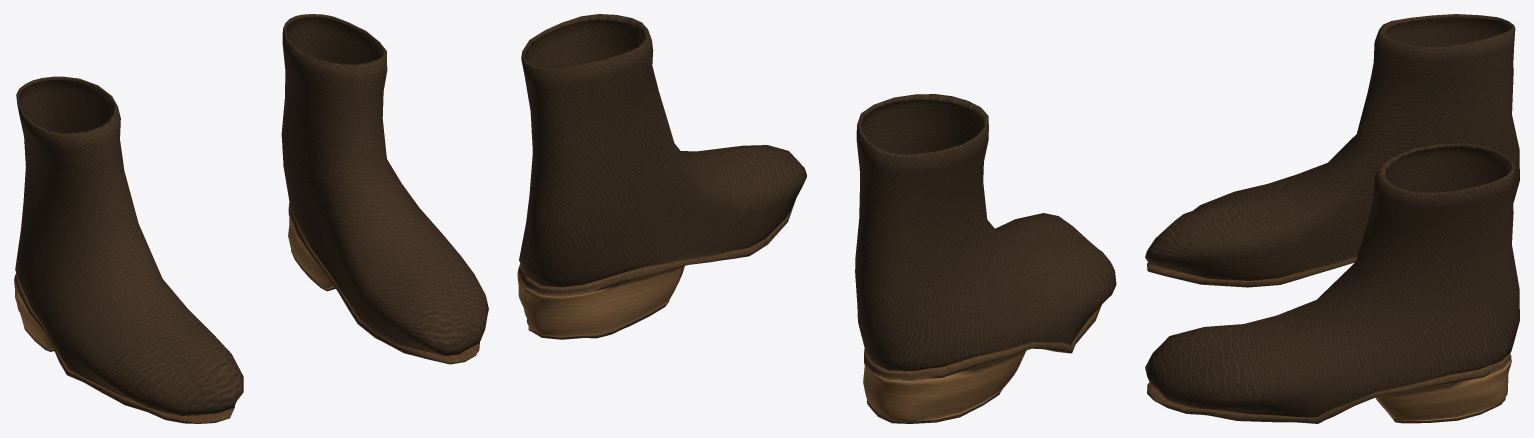
The model's file is shoes_ankle_boots.gltf.
The picture shows the model from 3 angles, left to right: view 1: azimuth 30°, elevation 25°; view 2: azimuth 150°, elevation 25°; view 3: azimuth 270°, elevation 25°; orthographic projection. The views are drawn at different scales.
Visible parts, largest first — view 1: shoes_ankle_boots; view 2: shoes_ankle_boots; view 3: shoes_ankle_boots.
Boxes of the visible parts, bbox=[...] form: shoes_ankle_boots: bbox=[14, 14, 488, 423]; shoes_ankle_boots: bbox=[517, 14, 1116, 423]; shoes_ankle_boots: bbox=[1145, 14, 1519, 423].
Size of the model in its own units: 0.3527 by 0.1969 by 0.2774.
Materials: 1 (1 with a texture image).
